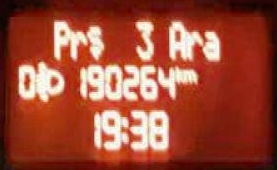0: (15, 60, 35, 100), (104, 62, 121, 102)
1: (91, 108, 100, 150), (76, 63, 86, 98)
2: (121, 62, 138, 102)
3: (132, 16, 155, 60), (129, 107, 146, 152)
4: (156, 61, 175, 100)
6: (139, 62, 158, 102)
8: (146, 107, 169, 152)
9: (100, 106, 119, 150), (85, 61, 104, 100)
X: (49, 17, 69, 62), (166, 16, 185, 60), (86, 21, 105, 60), (201, 27, 221, 62), (185, 25, 202, 61), (69, 26, 86, 60), (120, 113, 129, 143), (182, 65, 197, 83), (174, 62, 183, 83)
